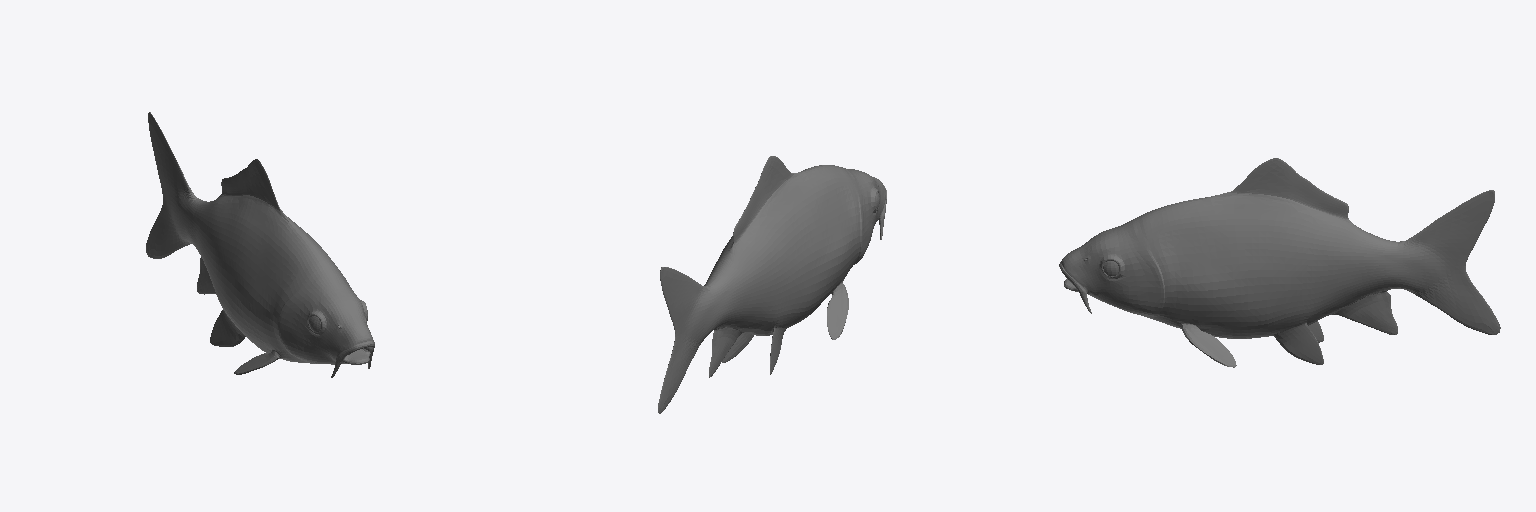
Rendered from carp_koi_orange.obj.
3 renders of one model, left to right at view 1: azimuth 30°, elevation 25°; view 2: azimuth 150°, elevation 25°; view 3: azimuth 270°, elevation 25°, orthographic.
Visible parts, largest first — view 1: carp_koi_orange; view 2: carp_koi_orange; view 3: carp_koi_orange.
Boxes of the visible parts, box(x1,y1,x2,y2) form: carp_koi_orange: box(146, 112, 374, 377); carp_koi_orange: box(658, 156, 886, 413); carp_koi_orange: box(1059, 158, 1500, 367).
Bounding box in the file's own units: 10.09 × 20.75 × 42.35.